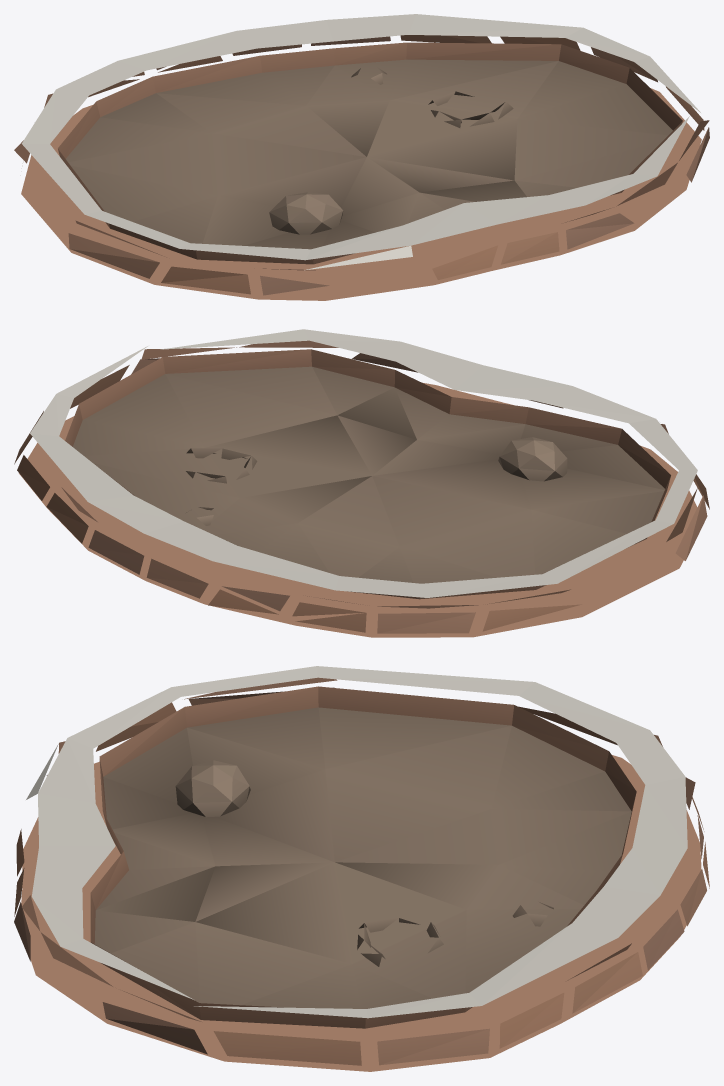
Rendered from mud.lod.glb.
3 views of the same model, one above another, from view 1: azimuth 30°, elevation 25°; view 2: azimuth 150°, elevation 25°; view 3: azimuth 270°, elevation 25° (orthographic). The views are drawn at different scales.
Parts seen in each view (by area): view 1: mud; view 2: mud; view 3: mud.
Boxes of the visible parts, x1,y1,x2,y2 form: mud: (14, 14, 709, 300); mud: (14, 329, 709, 637); mud: (14, 666, 709, 1071).
Bounding box in the file's own units: 4.5 × 0.323 × 3.6.
